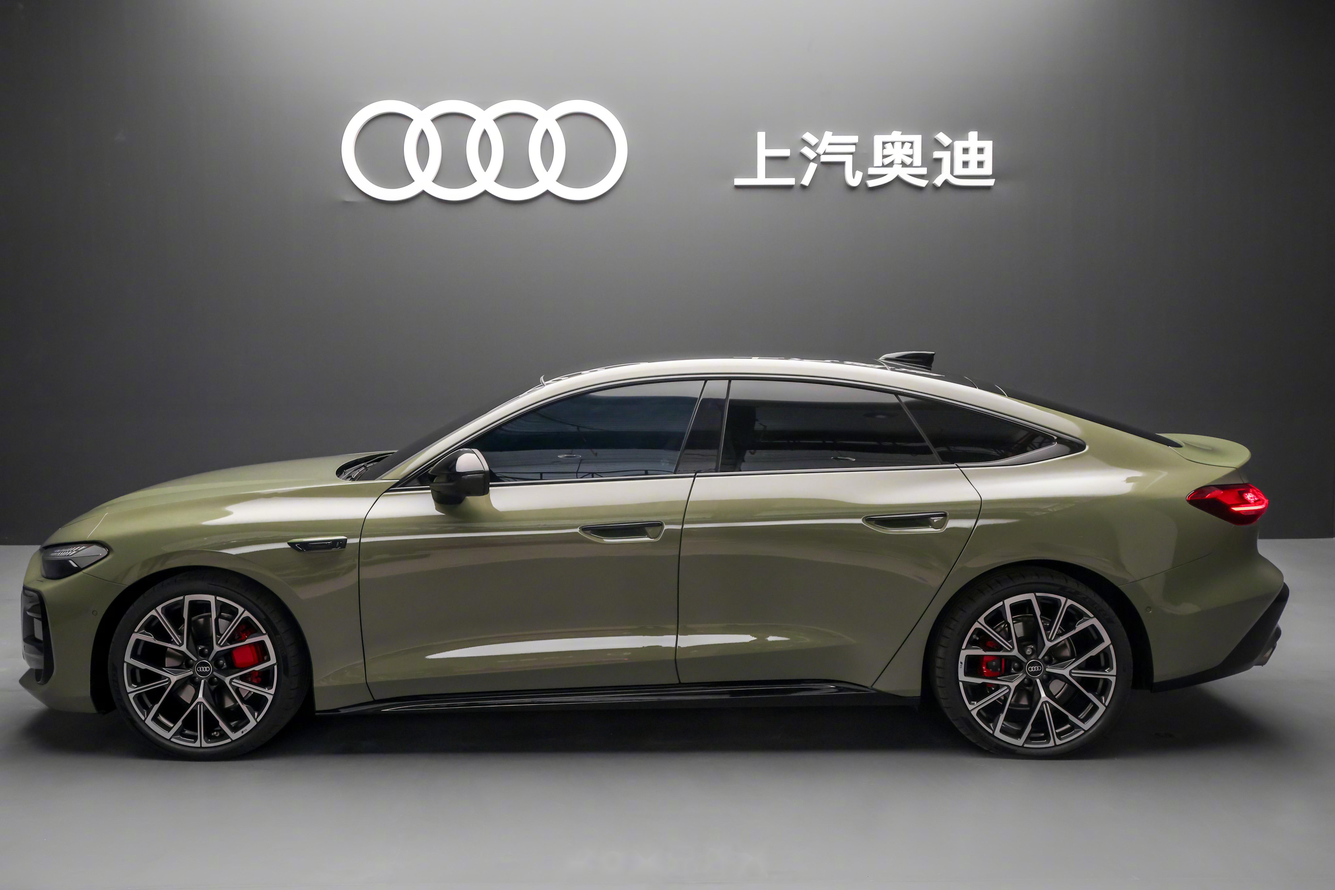other: (20, 362, 1298, 737)
